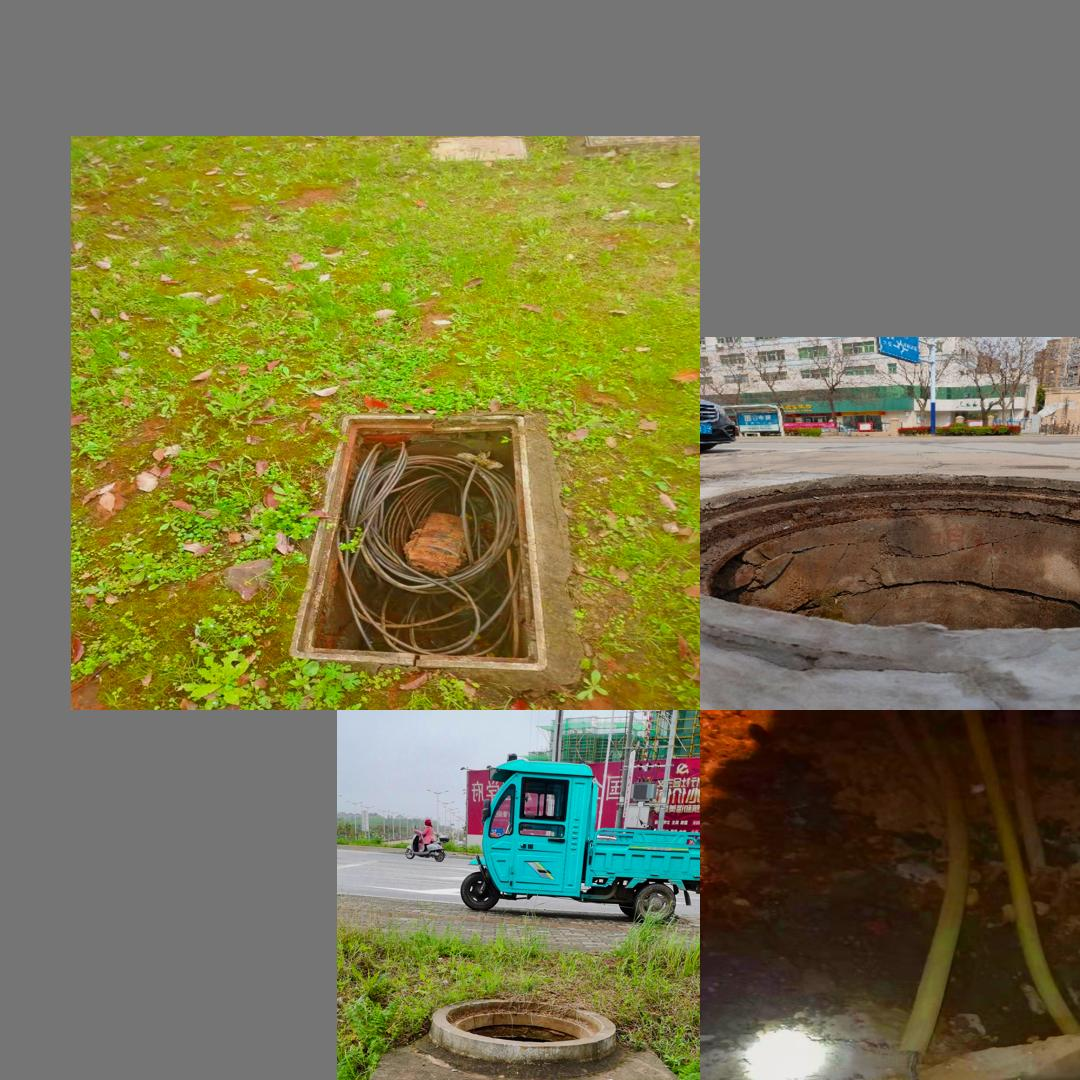lose: (703, 462, 1080, 659), (287, 412, 547, 668), (429, 994, 612, 1062), (949, 1013, 1080, 1080)
